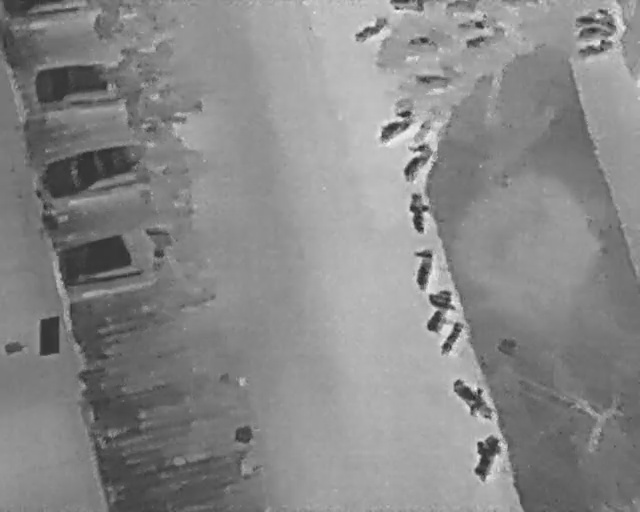Bicycle: (444, 370, 503, 429), (387, 131, 439, 188), (415, 281, 463, 338), (368, 100, 422, 149), (465, 430, 506, 486), (348, 9, 394, 50), (407, 244, 438, 293), (437, 316, 469, 360), (572, 35, 617, 64), (406, 190, 432, 236), (573, 5, 617, 27), (455, 11, 492, 35), (575, 23, 617, 41), (464, 29, 497, 50), (415, 71, 453, 88), (407, 34, 439, 51), (390, 0, 427, 13)
Car: (36, 133, 182, 208), (49, 220, 189, 297), (31, 53, 163, 115), (2, 0, 93, 19)
